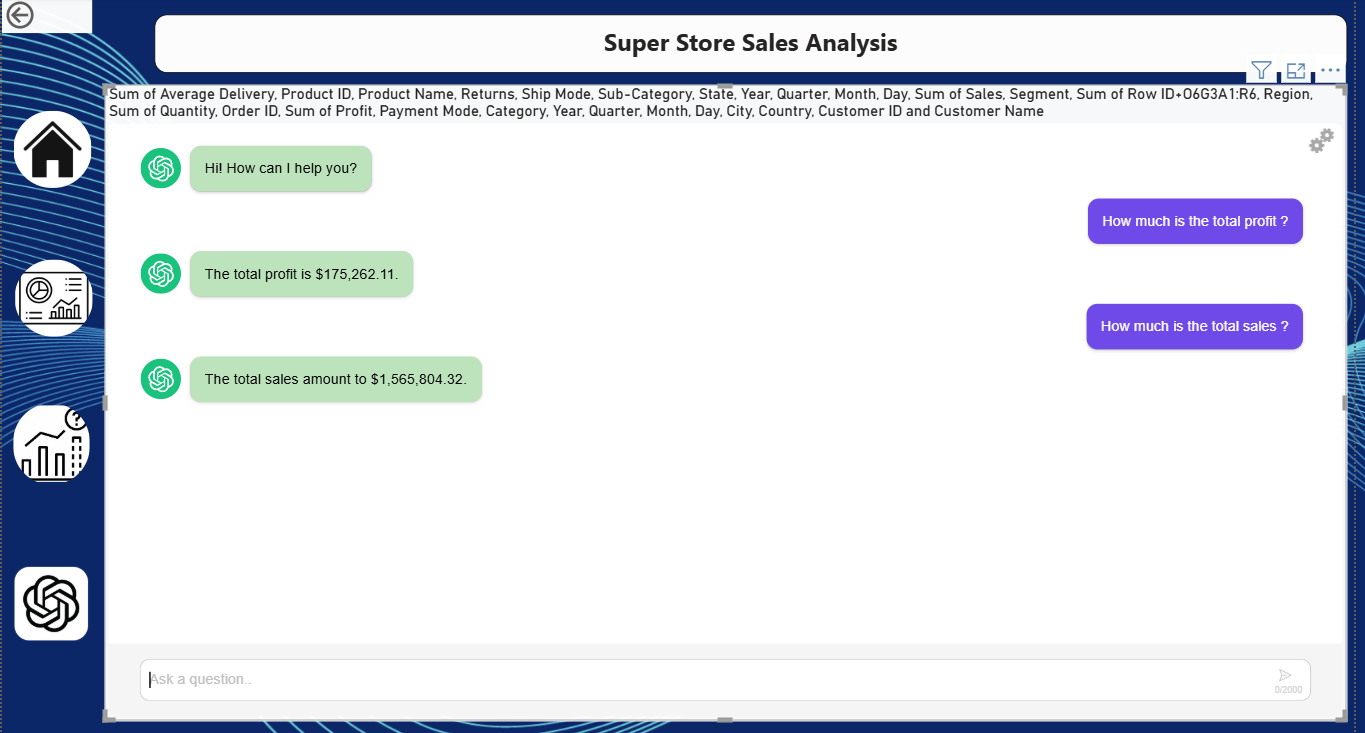

The page's visual inventory and layout, read from the dashboard file:
{"tool":"powerbi","page":{"name":"Q&A / AI","canvas":[1500,816],"ordinal":3},"visuals":[{"type":"chatpowerbi_ai","fields":{"values":["Sum(SuperStore_Sales_Dataset.Average Delivery)","SuperStore_Sales_Dataset.Product ID","SuperStore_Sales_Dataset.Product Name","SuperStore_Sales_Dataset.Returns","SuperStore_Sales_Dataset.Ship Mode","SuperStore_Sales_Dataset.Sub-Category","SuperStore_Sales_Dataset.State","SuperStore_Sales_Dataset.Ship Date.Variation.Date Hierarchy.Year","SuperStore_Sales_Dataset.Ship Date.Variation.Date Hierarchy.Quarter","SuperStore_Sales_Dataset.Ship Date.Variation.Date Hierarchy.Month","SuperStore_Sales_Dataset.Ship Date.Variation.Date Hierarchy.Day","Sum(SuperStore_Sales_Dataset.Sales)"]},"box":[113.6,97,1377.6,705.4],"z":0},{"type":"actionButton","box":[0,0,100,40],"z":1000},{"type":"textbox","box":[169.1,19.4,1322.1,65.1],"z":2000},{"type":"image","box":[12.5,126.1,87.3,85.9],"z":3000},{"type":"image","box":[13.9,291,87.3,85.9],"z":4000},{"type":"image","box":[12.5,450.4,84.5,90.1],"z":5000},{"type":"image","box":[13.9,627.8,81.8,90.1],"z":6000}]}

Visuals, with their boxes on the page's 1500x816 design canvas (x1, y1, x2, y2). These are canvas units, not pixel positions in the 1365x733 screenshot, which may show the page scaled, cropped or inside an application window:
chatpowerbi_ai - Sum(SuperStore_Sales_Dataset.Average Delivery) x SuperStore_Sales_Dataset.Product ID: [x1=114, y1=97, x2=1491, y2=802]
actionButton: [x1=0, y1=0, x2=100, y2=40]
textbox: [x1=169, y1=19, x2=1491, y2=84]
image: [x1=12, y1=126, x2=100, y2=212]
image: [x1=14, y1=291, x2=101, y2=377]
image: [x1=12, y1=450, x2=97, y2=540]
image: [x1=14, y1=628, x2=96, y2=718]
